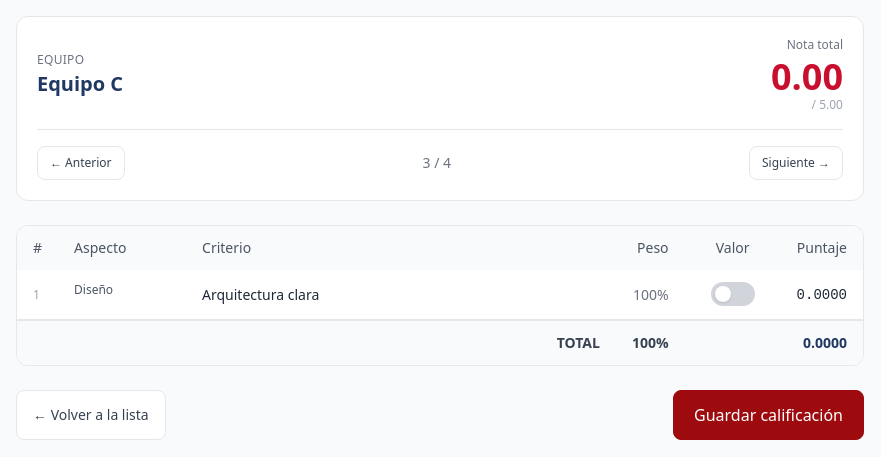
Test: GradingTemplatePage — estado de navegación al guardar › guardar un ítem que no es el primero lo marca como calificado en el state que viaja
expect the heading "Equipo C" is shown: met, box [37,70,123,98]
Click the button "Guardar calificación" at {"x": 768, "y": 415}, box [673,390,864,440]
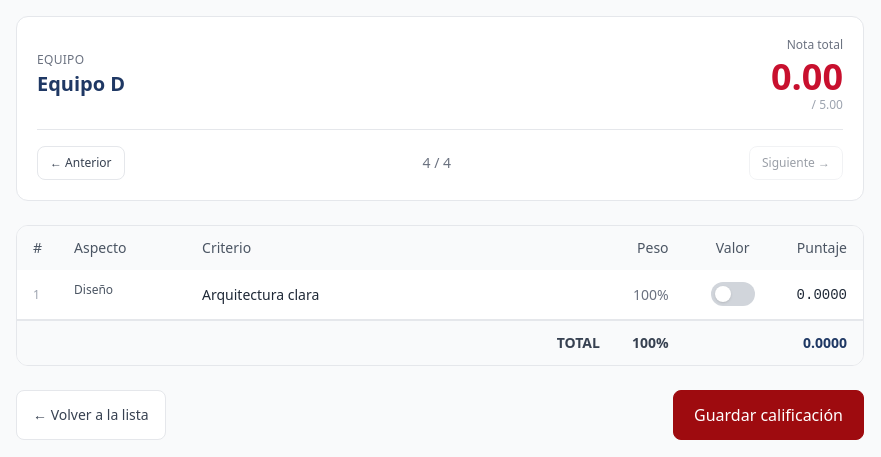
expect the heading "Equipo D" is shown: met, box [37,70,125,98]
